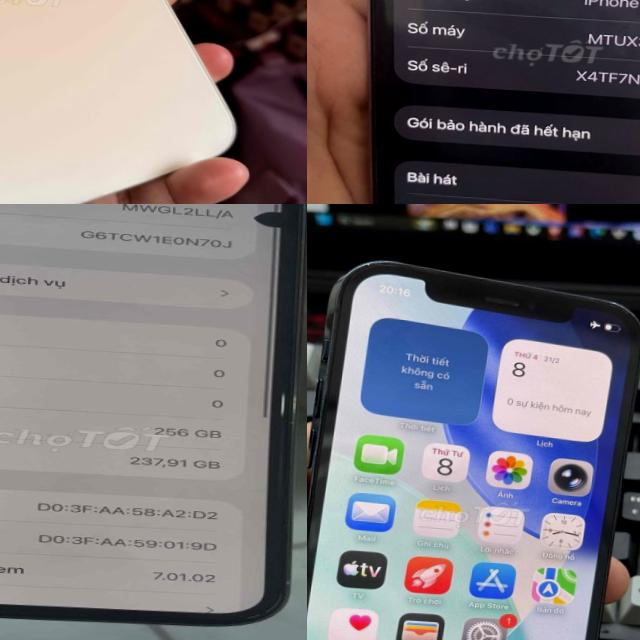screen_defect: (246, 204, 307, 241)
